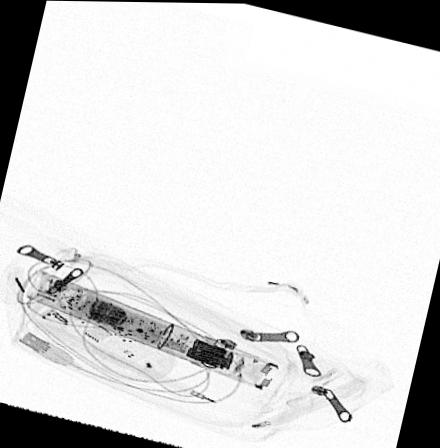Baton: (24, 269, 280, 390)
